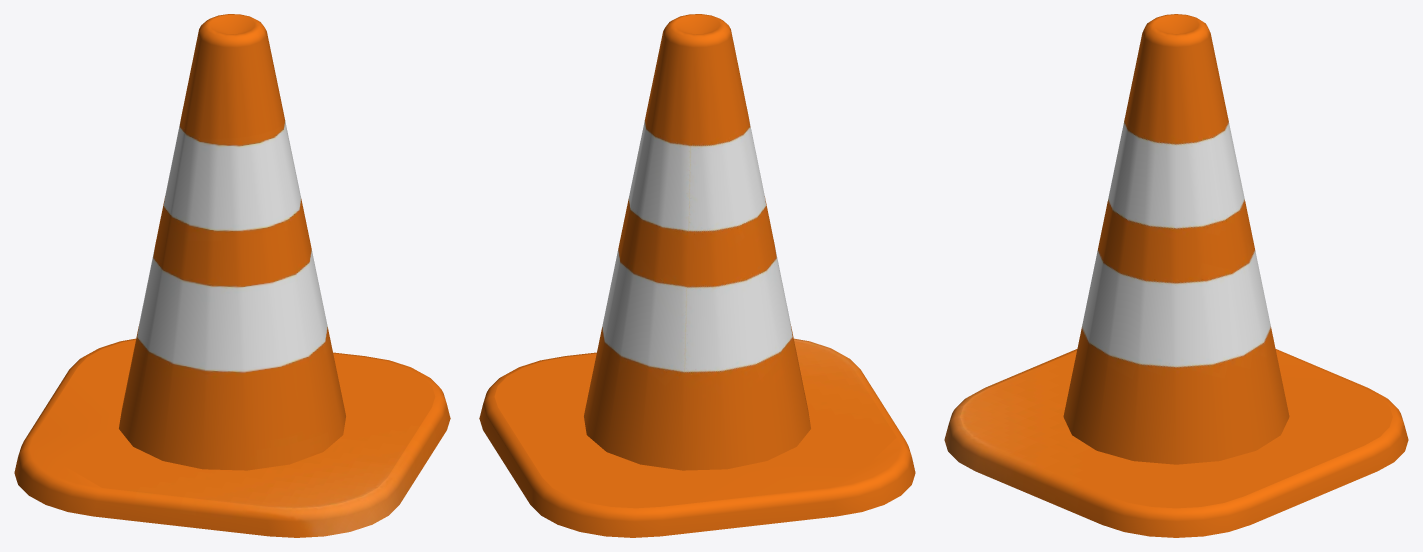
The model's file is traffic_cone.glb.
The picture shows the model from 3 angles, left to right: view 1: azimuth 30°, elevation 25°; view 2: azimuth 150°, elevation 25°; view 3: azimuth 270°, elevation 25°; orthographic projection.
Visible parts, largest first — view 1: Stkm_WorkSet_TrafficCone; view 2: Stkm_WorkSet_TrafficCone; view 3: Stkm_WorkSet_TrafficCone.
Part boxes in pixels (x1,y1,x2,y2): Stkm_WorkSet_TrafficCone: (14, 14, 450, 537); Stkm_WorkSet_TrafficCone: (479, 14, 915, 537); Stkm_WorkSet_TrafficCone: (944, 14, 1408, 537).
Bounding box in the file's own units: 0.5076 × 0.501 × 0.5076.
1 material, 1 textured.
